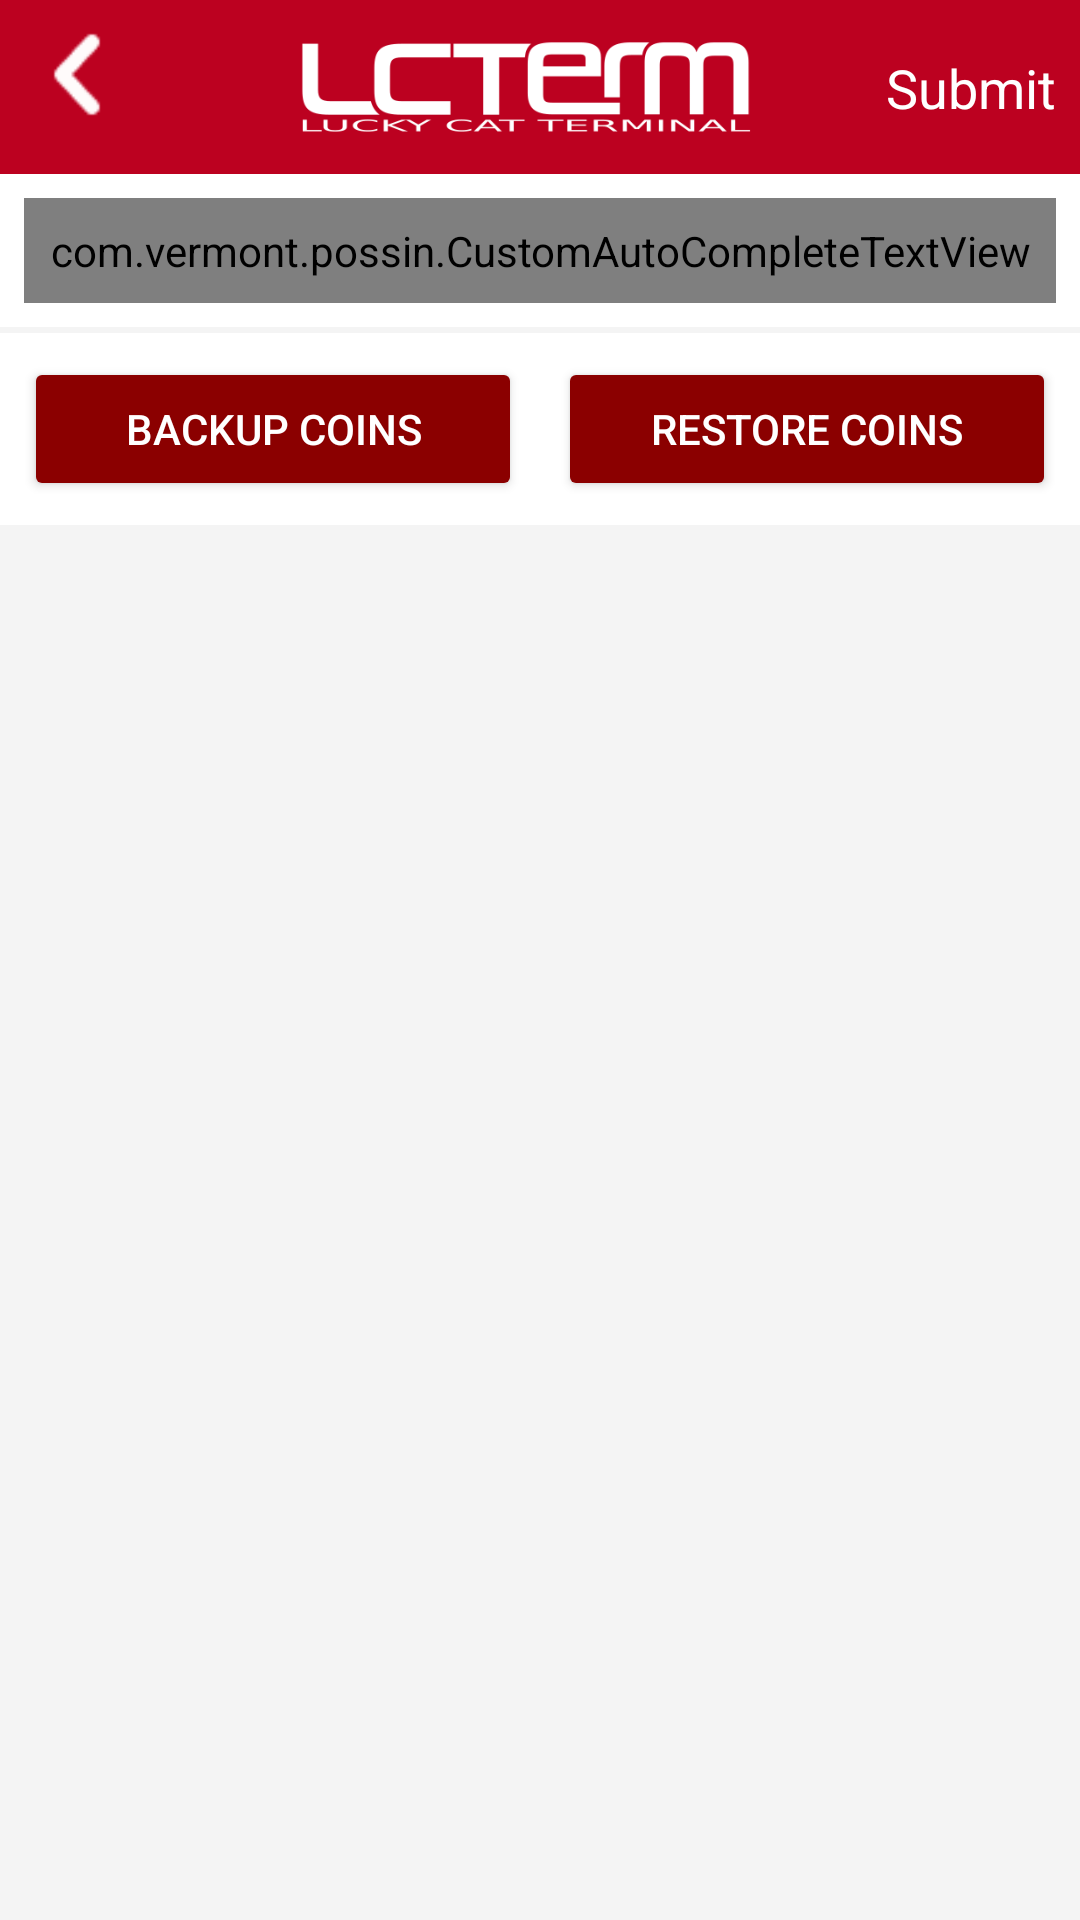

Screen size 1080px×1920px. Icon name, then its center in pixels as (x=x, y=y):
Back: (x=77, y=74)
